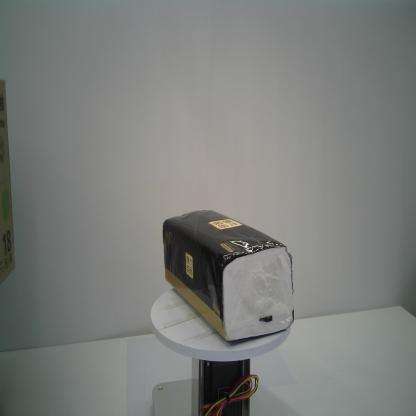Tissue: (162, 208, 294, 343)
